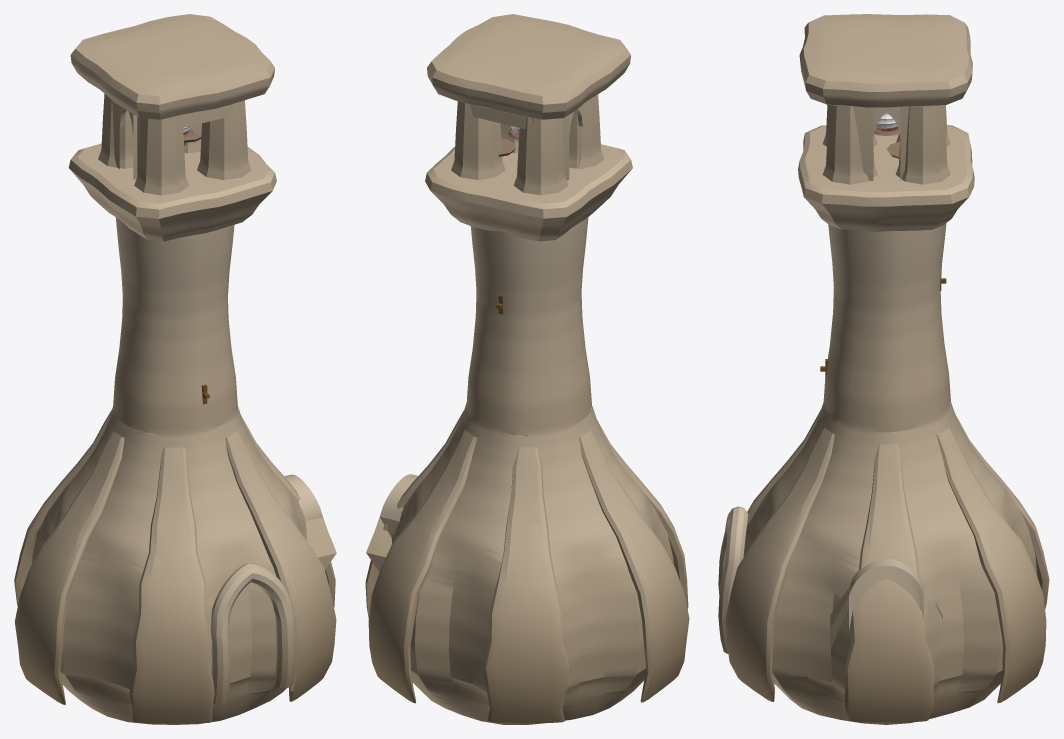
The model's file is watchtower.glb.
3 views of the same model, side by side, from view 1: azimuth 30°, elevation 25°; view 2: azimuth 150°, elevation 25°; view 3: azimuth 270°, elevation 25° (orthographic).
Visible parts, largest first — view 1: watchtower; view 2: watchtower; view 3: watchtower.
Part boxes in pixels (box(x1,y1,x2,y2)): watchtower: box(14, 14, 336, 724); watchtower: box(365, 14, 689, 724); watchtower: box(718, 14, 1049, 724).
Bounding box in the file's own units: 8.42 × 18.15 × 8.36.
